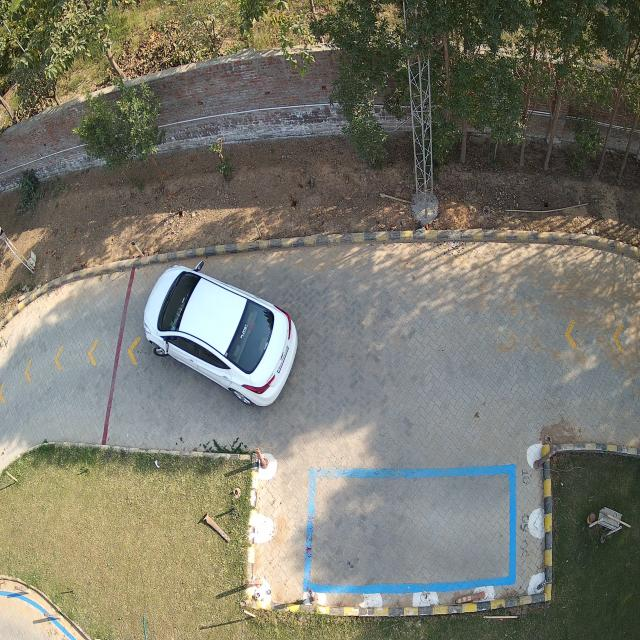car: (141, 265, 299, 409)
